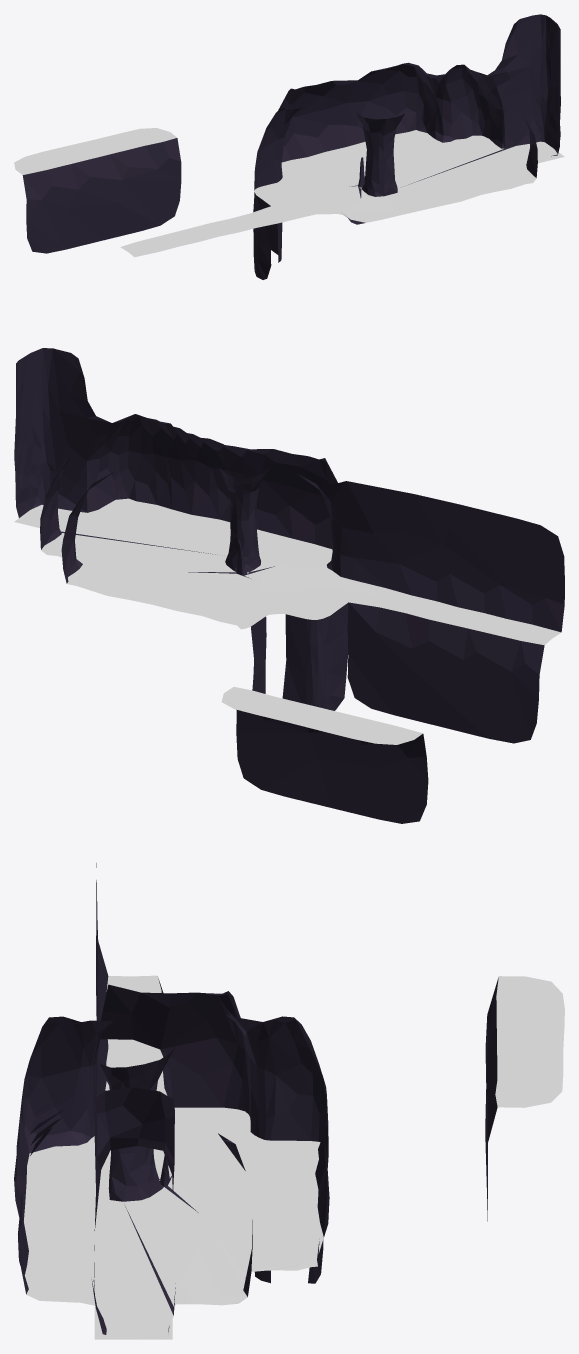
File: caveTest.fbx
3 renders of one model, top to bottom at view 1: azimuth 30°, elevation 25°; view 2: azimuth 150°, elevation 25°; view 3: azimuth 270°, elevation 25°, orthographic. The views are drawn at different scales.
Visible parts, largest first — view 1: Plane.002; view 2: Plane.002; view 3: Plane.002.
Boxes of the visible parts, x1,y1,x2,y2 form: Plane.002: [14, 14, 560, 279]; Plane.002: [14, 348, 564, 823]; Plane.002: [14, 863, 564, 1337].
Bounding box in the file's own units: 44.3 × 20.49 × 28.26.
